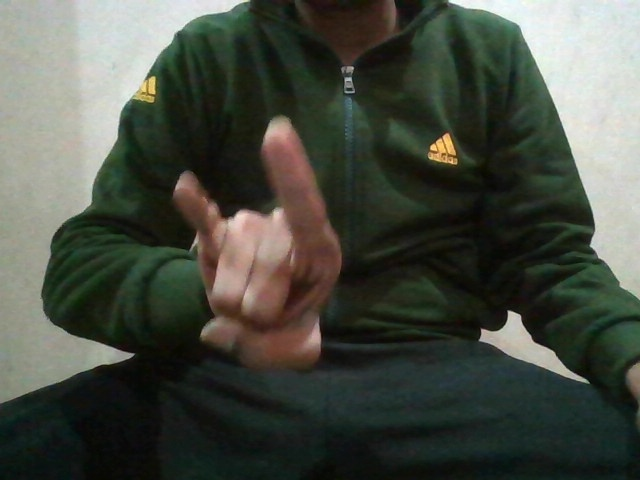U: (158, 127, 347, 360)
